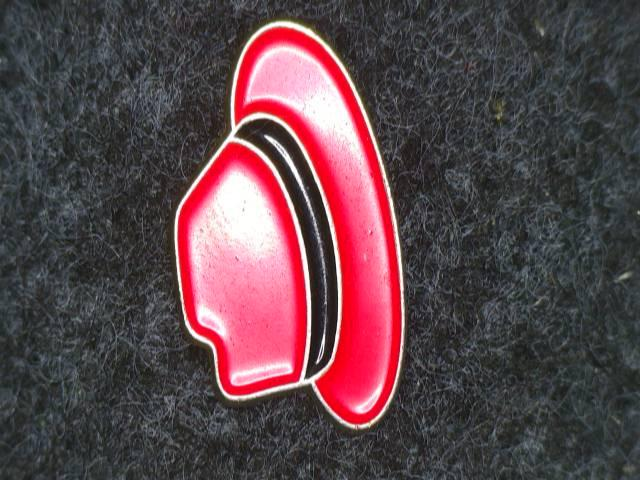Red-Hat: (134, 0, 420, 459)
